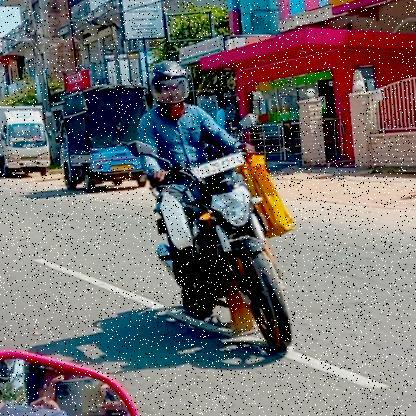motorcycle: (133, 140, 327, 396)
